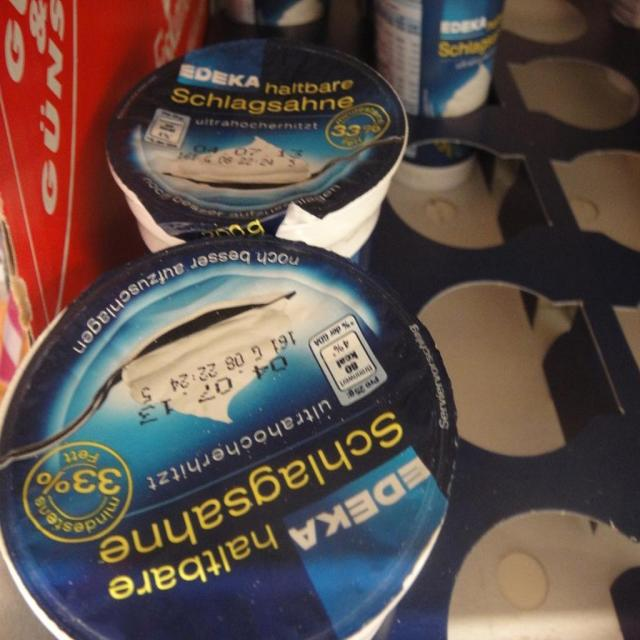Cream: (0, 237, 457, 637), (107, 39, 407, 263), (375, 0, 503, 190)
